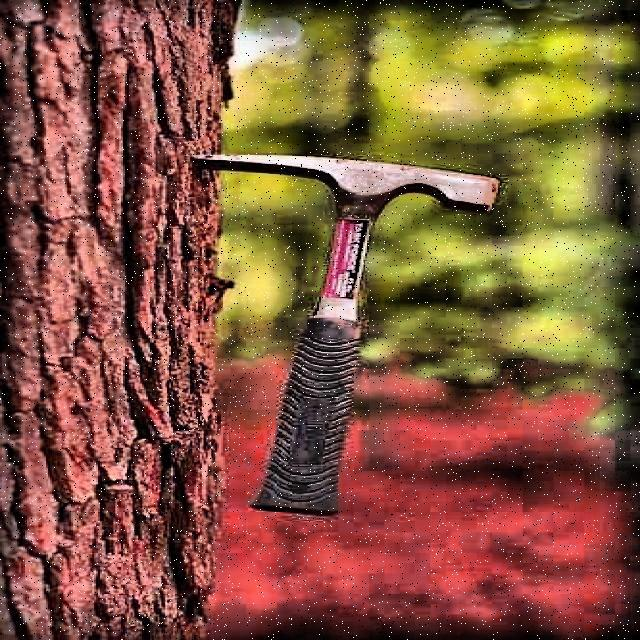hammer: (184, 154, 528, 522)
